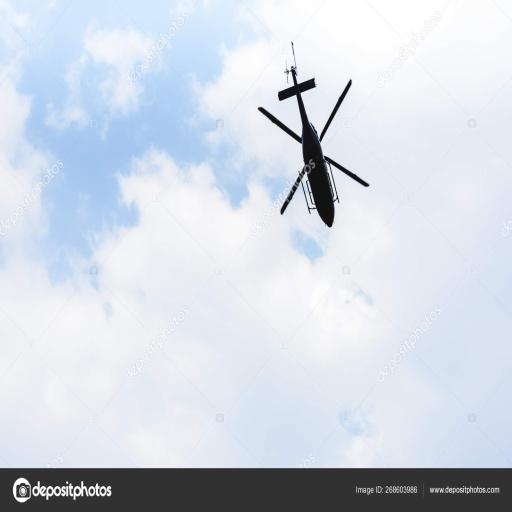helicopter: (256, 42, 371, 230)
